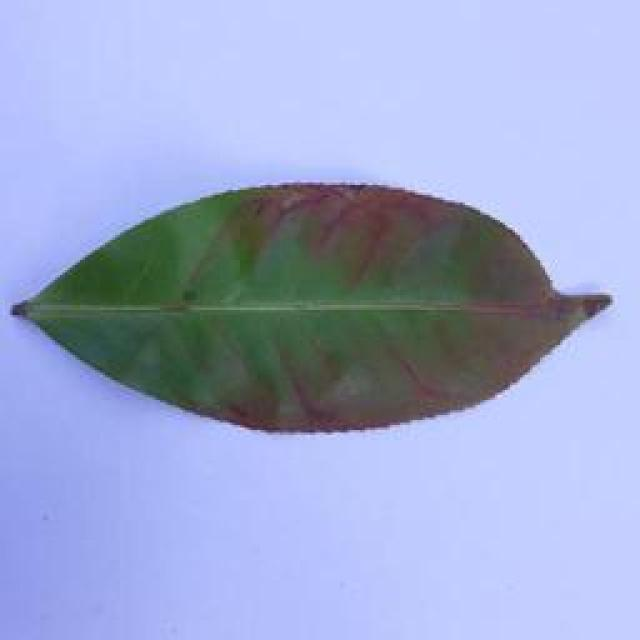Red Leaf Spot: (6, 170, 608, 446)
